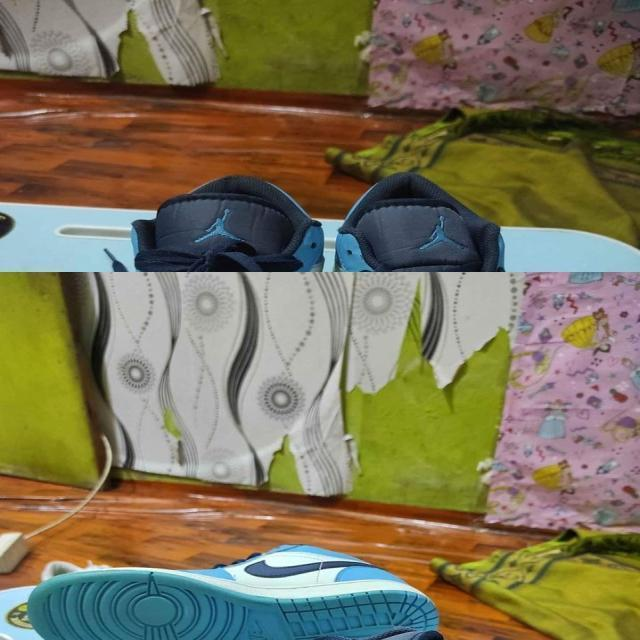nike fake jordan 1: (22, 538, 439, 640)
